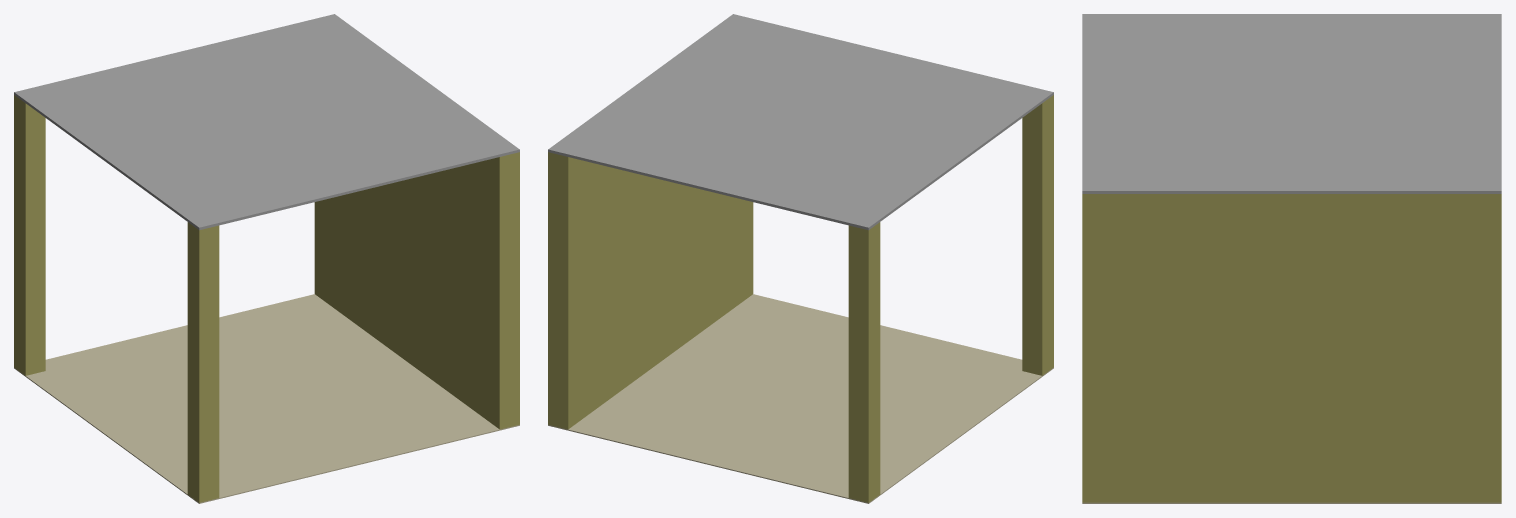
File: tile10.gltf
3 renders of one model, left to right at view 1: azimuth 30°, elevation 25°; view 2: azimuth 150°, elevation 25°; view 3: azimuth 270°, elevation 25°, orthographic. The views are drawn at different scales.
Parts seen in each view (by area): view 1: cube (×5); view 2: cube (×5); view 3: cube (×3).
Part boxes in pixels (x1,y1,x2,y2): cube (×5): (14, 14, 519, 503); cube (×5): (548, 14, 1053, 503); cube (×3): (1082, 14, 1501, 503).
Size of the model in its own units: 1 by 0.8234 by 1.
Materials: 1 (1 with a texture image).
